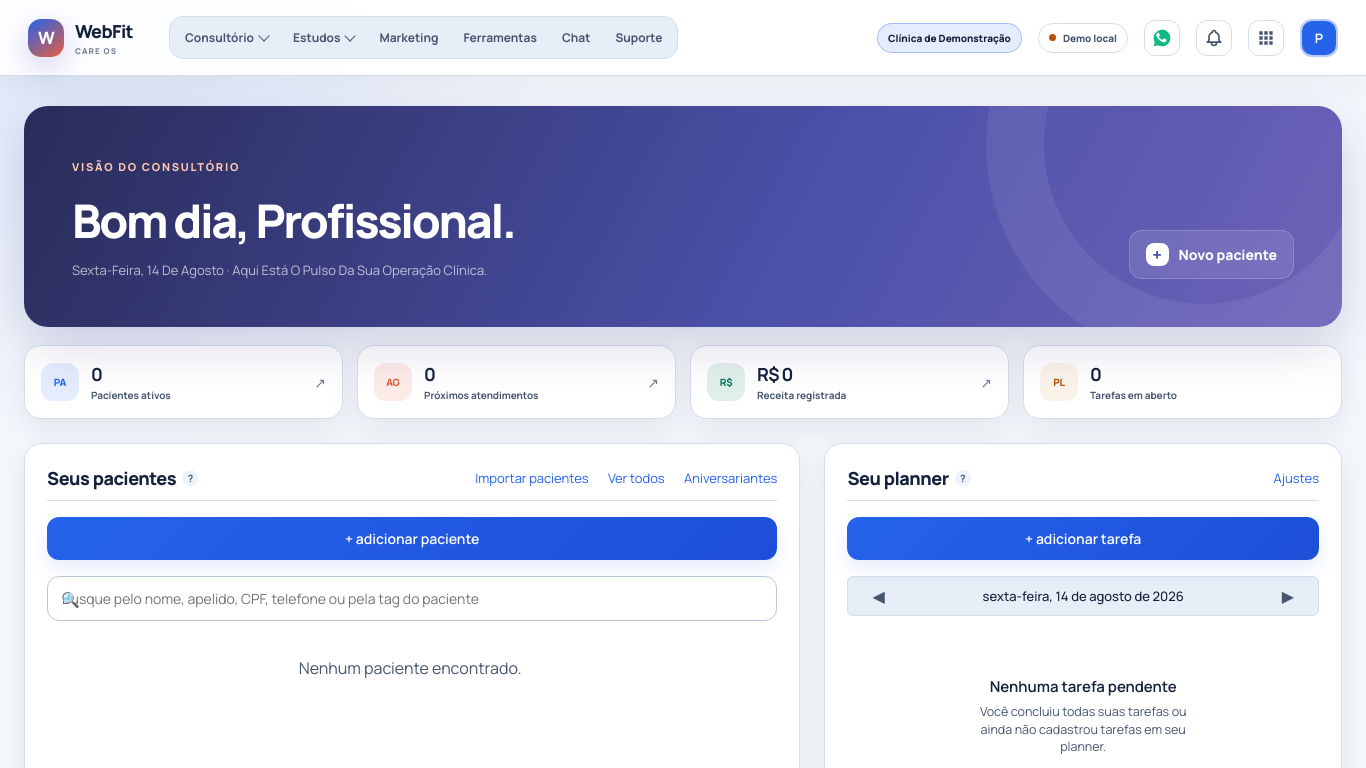
Test case: application navigation › opens the modules that previously rendered a blank page
The image size is (1366, 768).
Click the button "Marketing": {"x": 409, "y": 38} top-left (368, 21), bottom-right (449, 54)
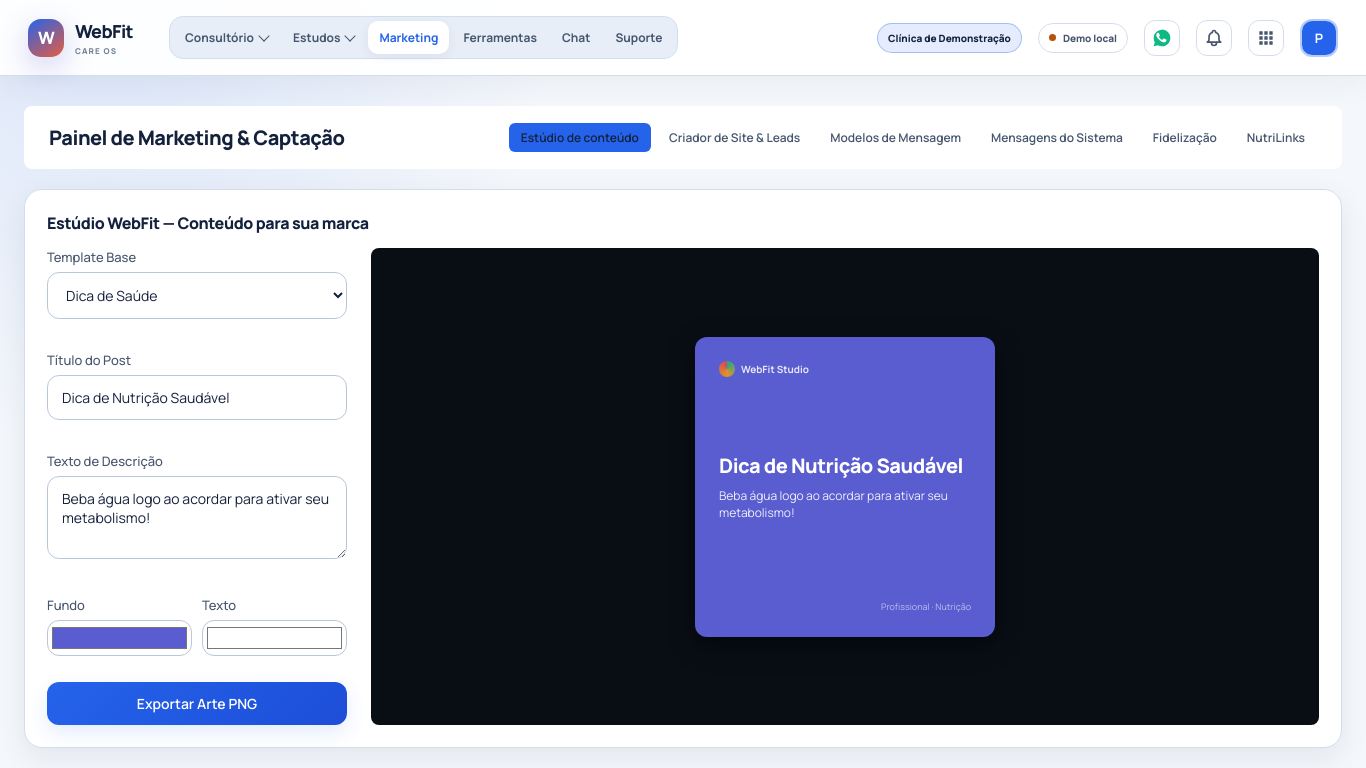
Check: the heading "Painel de Marketing & Captação" is shown, box top-left (49, 124), bottom-right (344, 151)
Click the button "Ferramentas": {"x": 500, "y": 38} top-left (452, 21), bottom-right (548, 54)
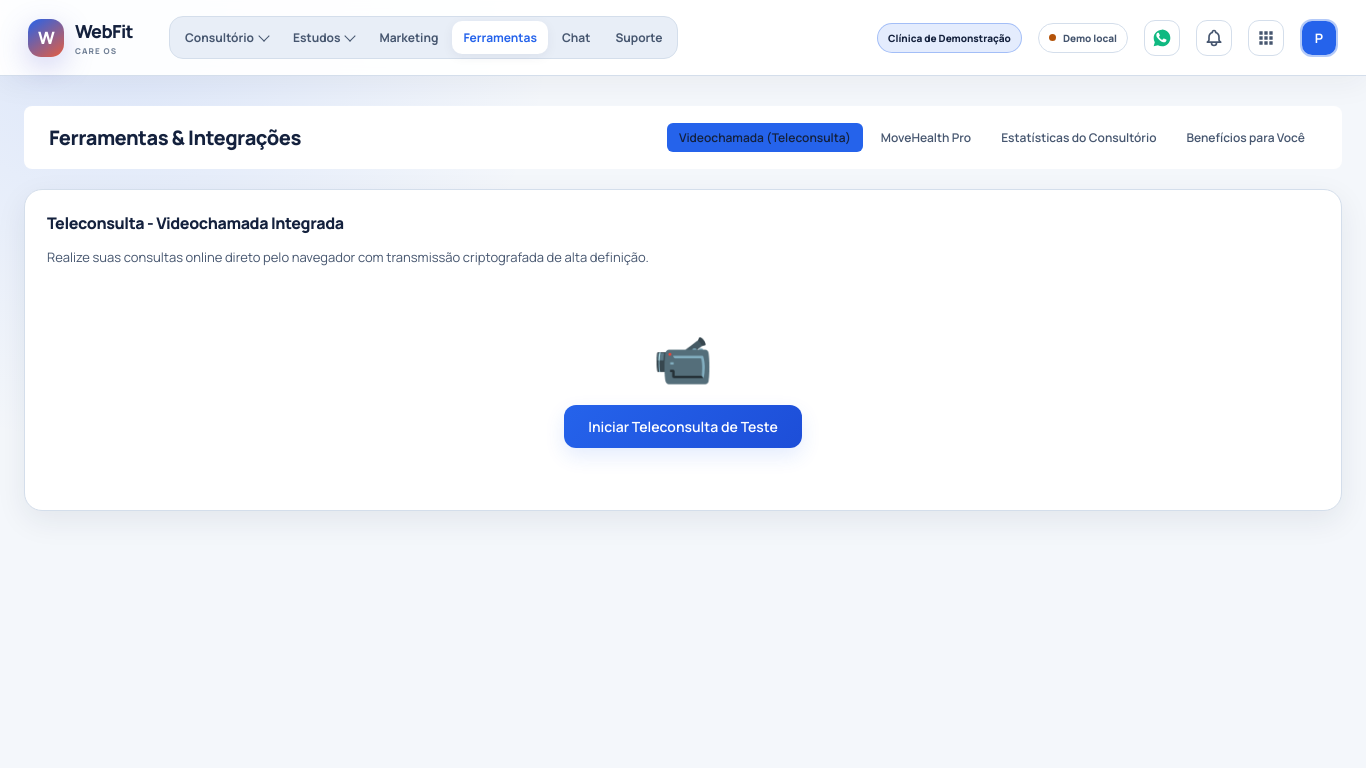
Check: the heading "Ferramentas & Integrações" is shown, box top-left (49, 124), bottom-right (301, 151)
Click the button "Suporte": {"x": 639, "y": 38} top-left (604, 21), bottom-right (674, 54)
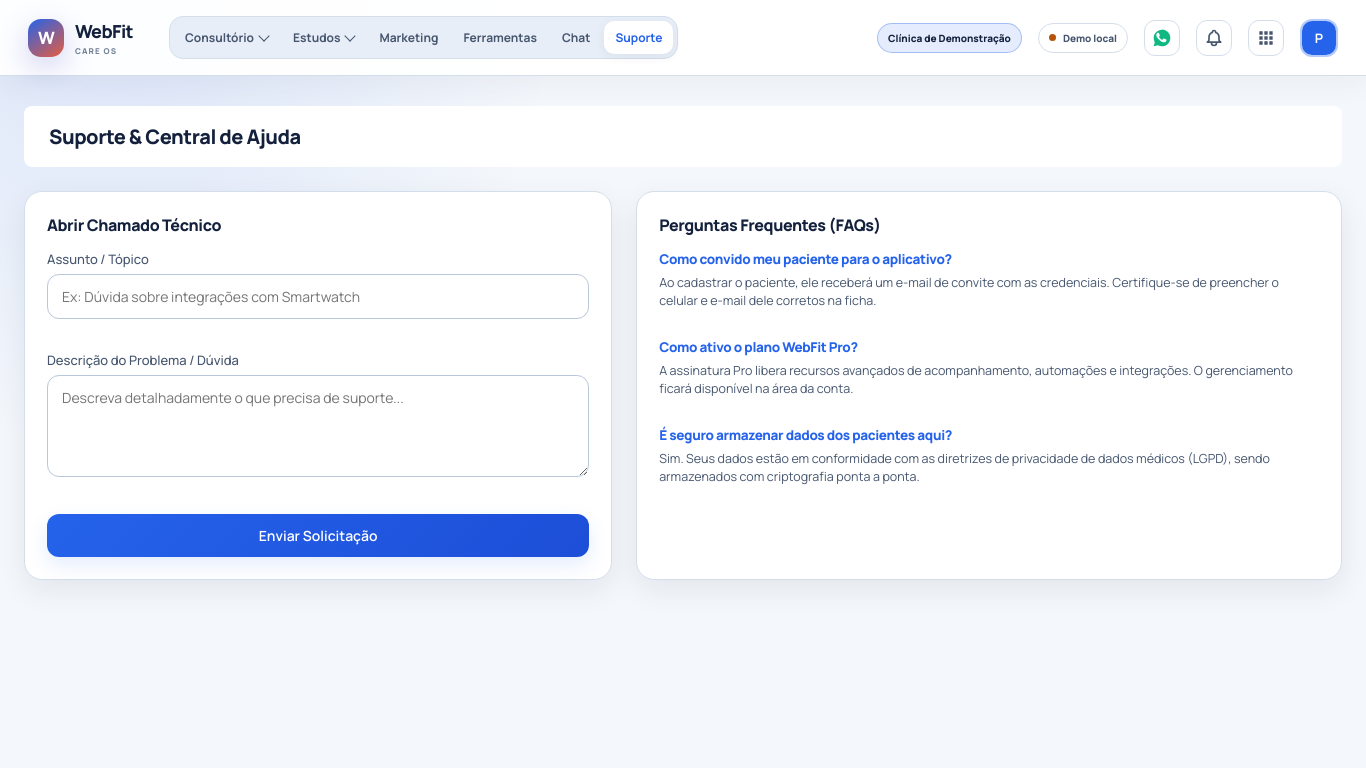
Check: the heading "Suporte & Central de Ajuda" is shown, box top-left (49, 123), bottom-right (300, 150)
